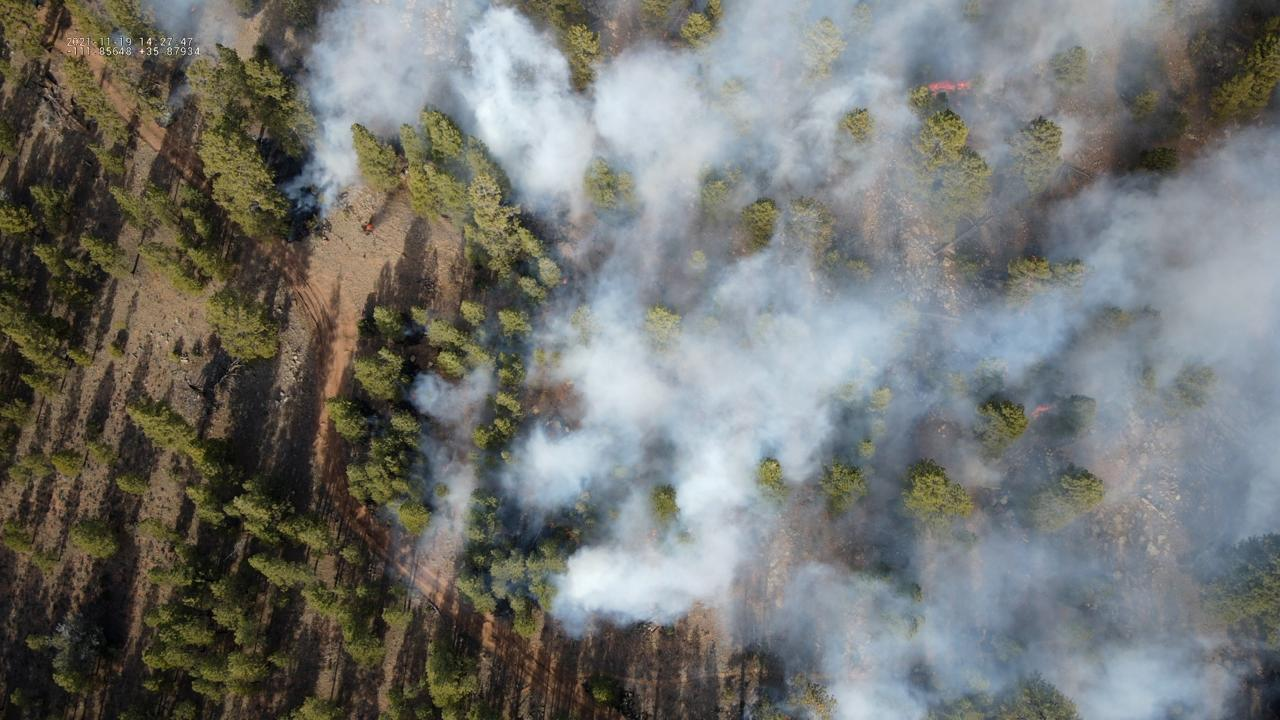fire: (926, 80, 971, 99), (1029, 404, 1051, 419), (365, 222, 374, 232), (650, 529, 657, 539), (190, 5, 197, 13)
smoke: (275, 0, 1280, 720), (111, 0, 235, 111)
